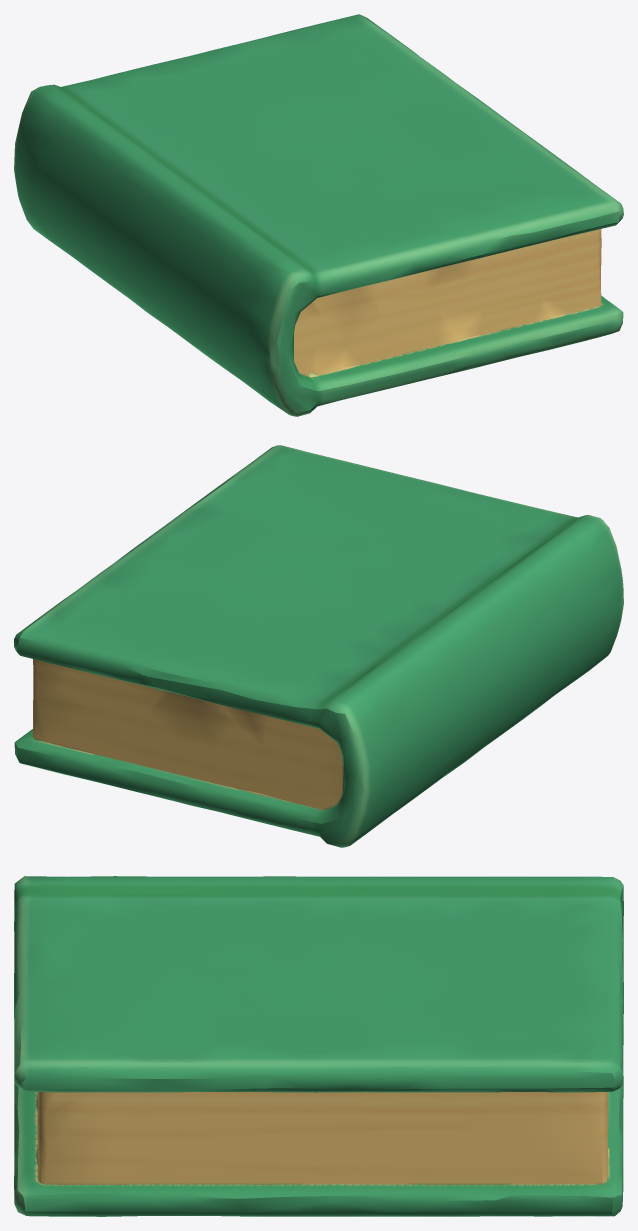
File: TT_BookMint.glb
3 renders of one model, top to bottom at view 1: azimuth 30°, elevation 25°; view 2: azimuth 150°, elevation 25°; view 3: azimuth 270°, elevation 25°, orthographic. The views are drawn at different scales.
Parts seen in each view (by area): view 1: geometry_0; view 2: geometry_0; view 3: geometry_0.
Boxes of the visible parts, <box> form: geometry_0: <box>14,14,623,416</box>; geometry_0: <box>14,445,623,847</box>; geometry_0: <box>14,876,623,1216</box>.
Size of the model in its own units: 0.7748 by 0.2988 by 1.
1 material, 1 textured.
